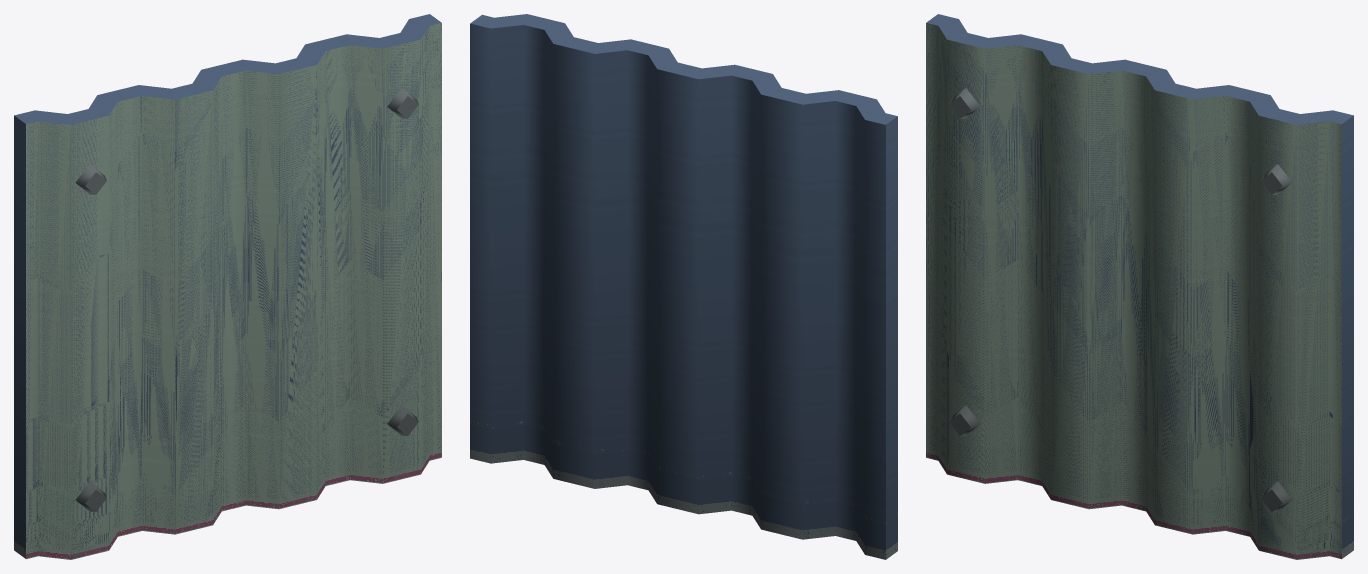
File: survival-kit__metal-panel-screws.glb
3 views of the same model, side by side, from view 1: azimuth 30°, elevation 25°; view 2: azimuth 150°, elevation 25°; view 3: azimuth 330°, elevation 25° (orthographic).
Parts seen in each view (by area): view 1: metal-panel-screws; view 2: metal-panel-screws; view 3: metal-panel-screws.
Part boxes in pixels (x1=…): metal-panel-screws: x1=14, y1=14, x2=441, y2=559; metal-panel-screws: x1=470, y1=14, x2=897, y2=559; metal-panel-screws: x1=926, y1=14, x2=1353, y2=559.
Size of the model in its own units: 3 by 3 by 0.375.
1 material, 1 textured.
